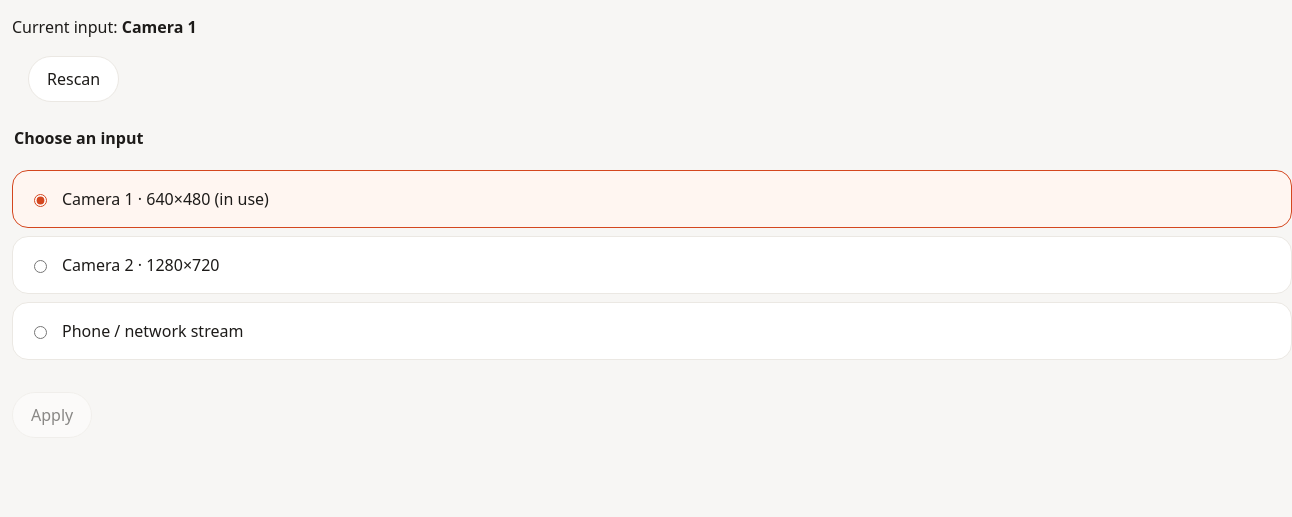
Test: reports a successful live switch when the preference could not be saved
Click the radio button labelled "Camera 2 · 1280×720" at [40, 267], box [34,260,47,273]
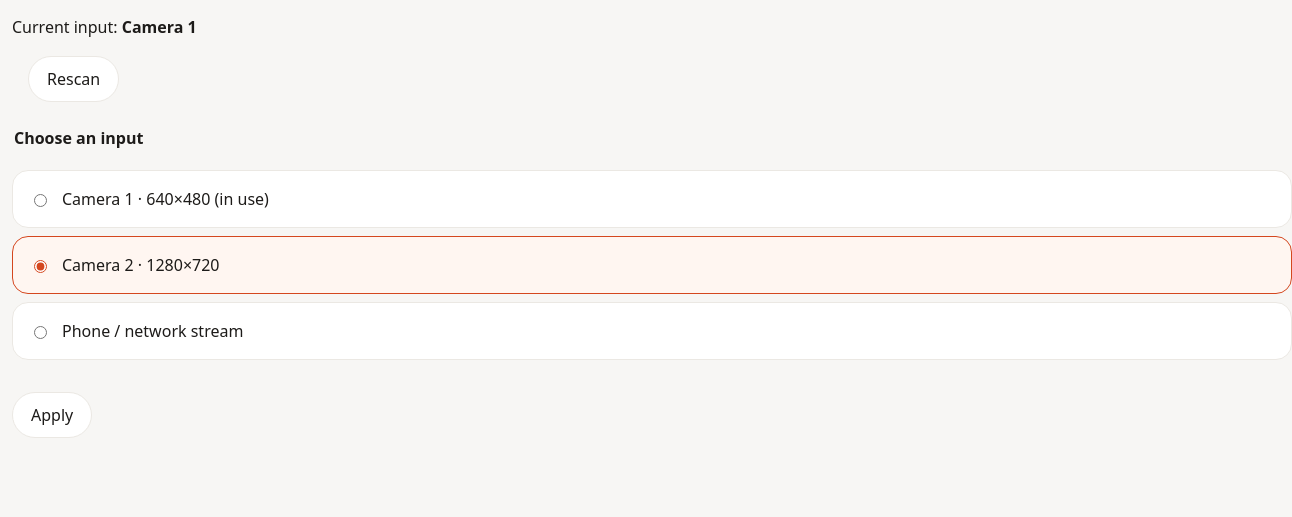
Click the button "Apply" at [52, 415], box [12,392,92,438]
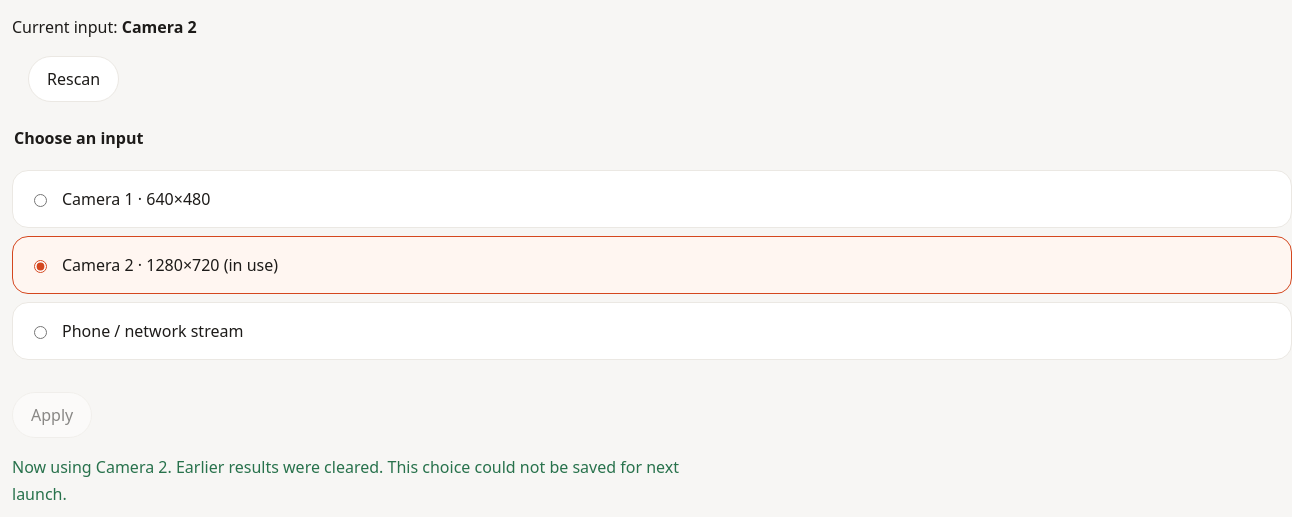
Expected: the text "Camera 2" is shown, [122,16,197,38]
Expected: the button "Apply" is disabled, [12,392,92,438]
